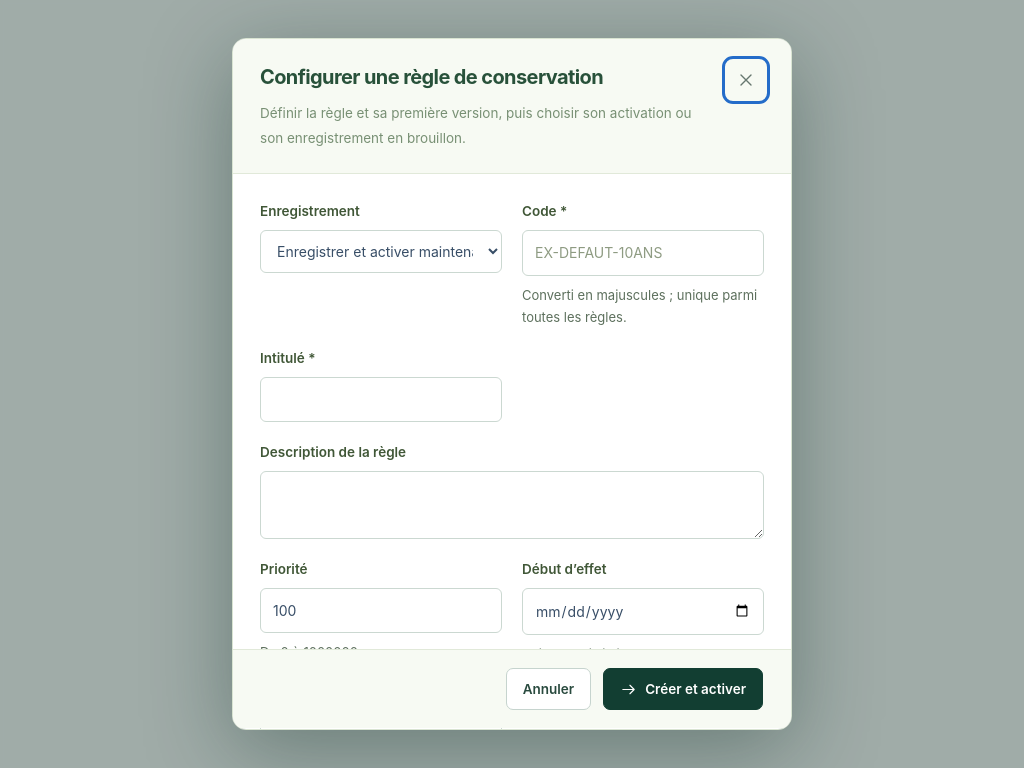
Test: sans cible, rien n’est envoyé et la règle n’est pas créée à vide
The width and height of the screenshot is (1024, 768).
Type "CONV-10" into the field labelled "Code". click: point(643, 253)
box: [522,230,764,276]
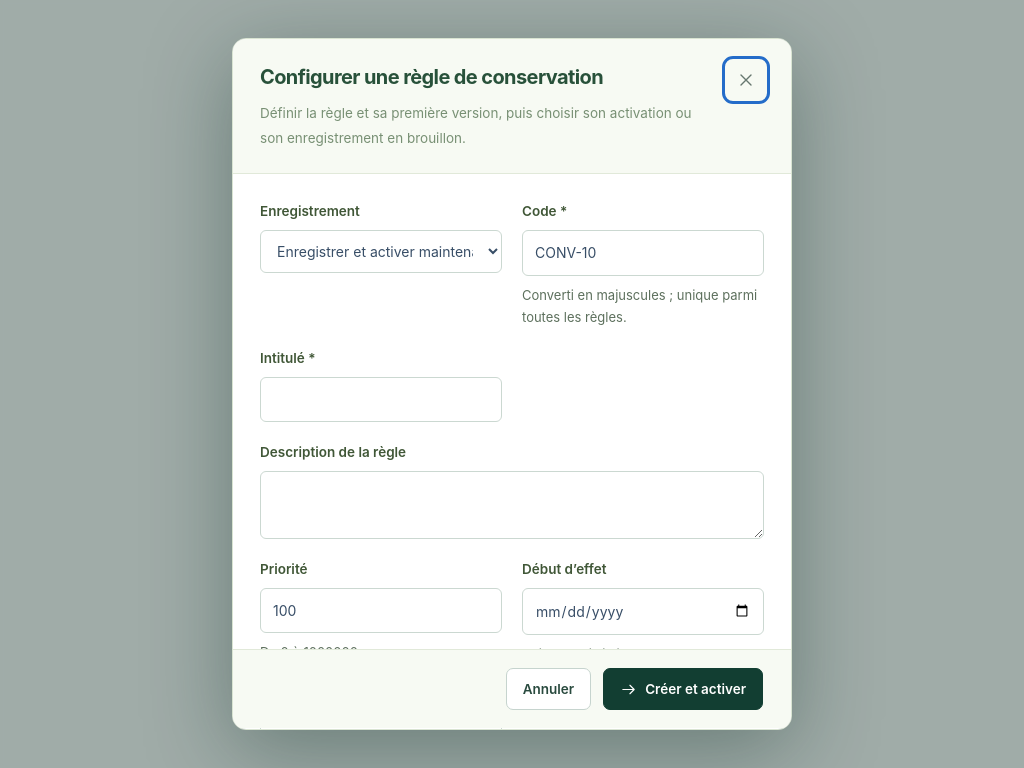
Type "Conservation 10 ans" into the field labelled "Intitulé *". click: point(381, 400)
box: [260,377,502,422]
(page scrolled)
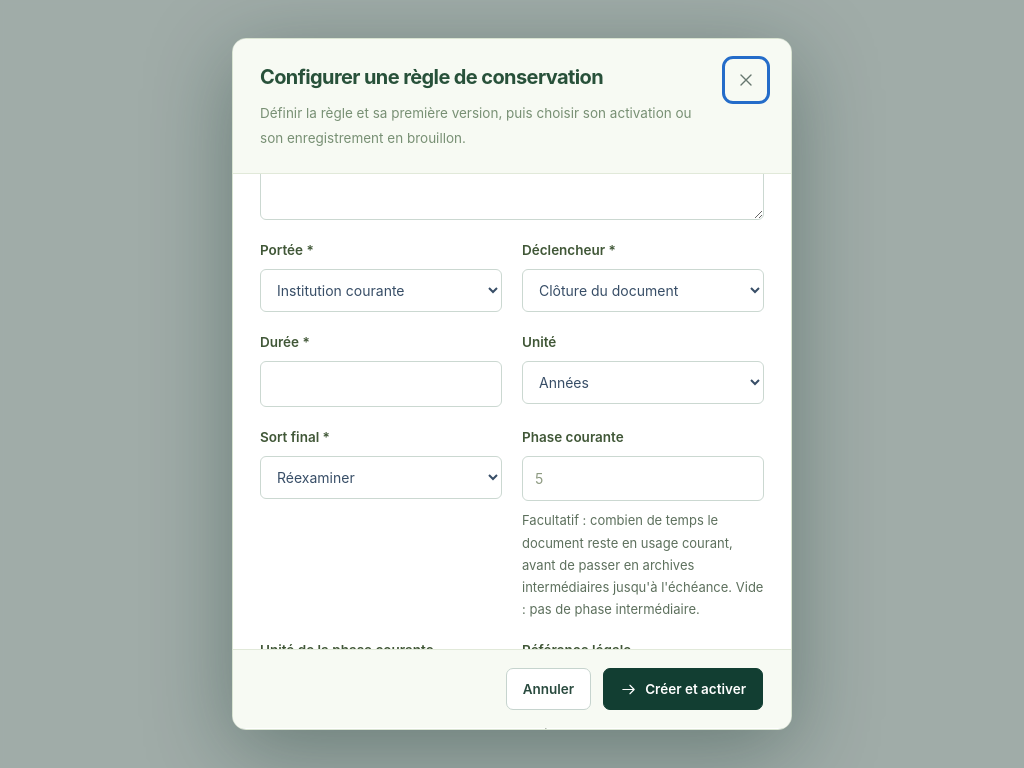
Type "10" into the number field labelled "Durée *". click: point(381, 384)
box: [260,361,502,407]
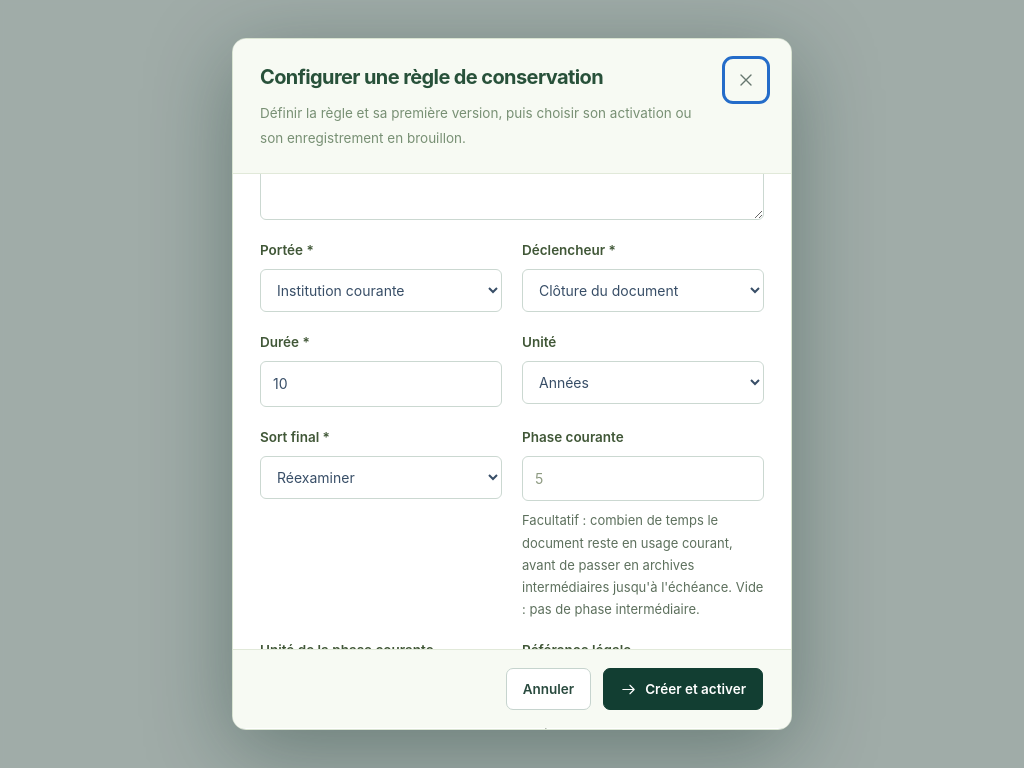
Click the button "Créer et activer". click: point(683, 690)
box: [603,669,763,711]
(page scrolled)
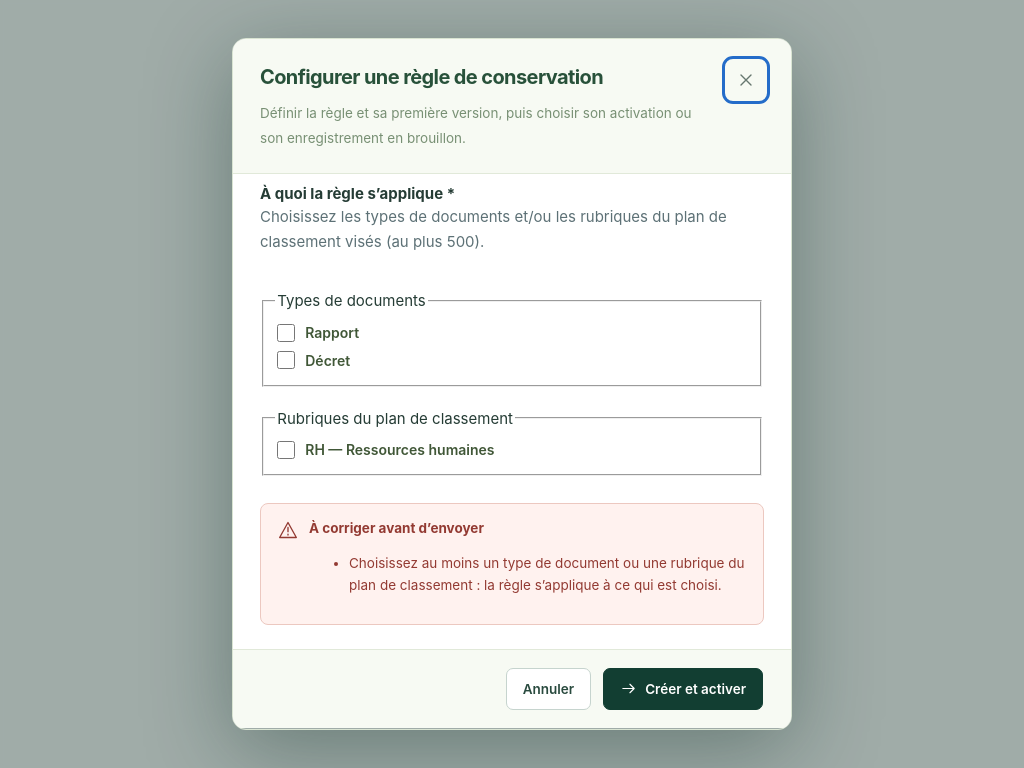
expect the list item "au moins un type de document ou une rubrique" is shown: met, box [349,555,744,593]
